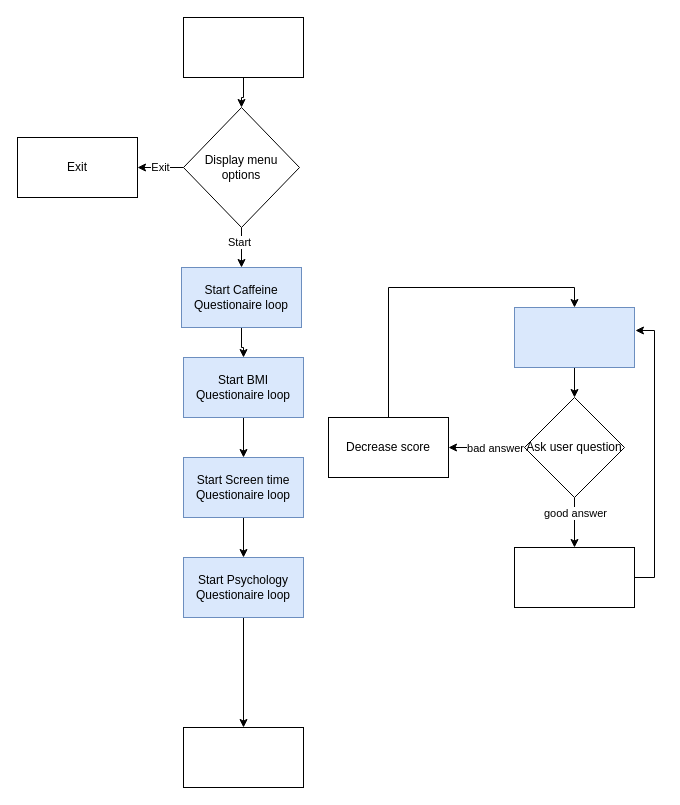
This 680x805 diagram has some shape labels left out. The shapes that lost their labels are listed below. From the top down, each one's box as (x1, y1, x2, y2) in pixels, then its label:
(182, 16, 304, 78): Initialize app
(514, 306, 634, 368): Questionaire loop
(514, 546, 634, 608): Increase score
(182, 726, 304, 788): Display final score and advice from array
